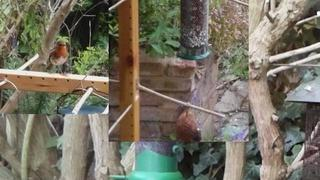robin: (45, 40, 69, 75)
